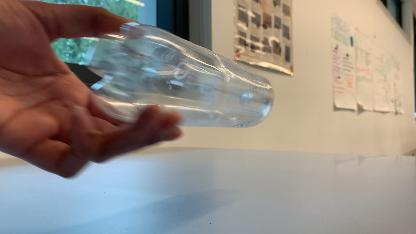Plastic Bottle: (83, 20, 279, 136)
